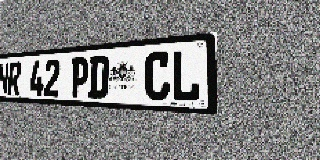2: (43, 59, 61, 97)
4: (29, 60, 45, 96)
C: (144, 51, 171, 101)
D: (88, 55, 109, 99)
L: (171, 49, 201, 102)
N: (0, 63, 9, 95)
P: (70, 57, 89, 98)
R: (7, 62, 22, 95)
